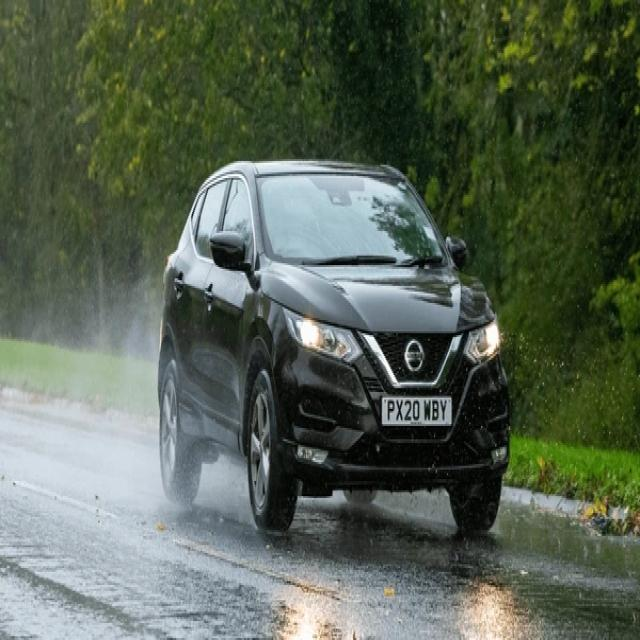nissan: (401, 339, 431, 375)
